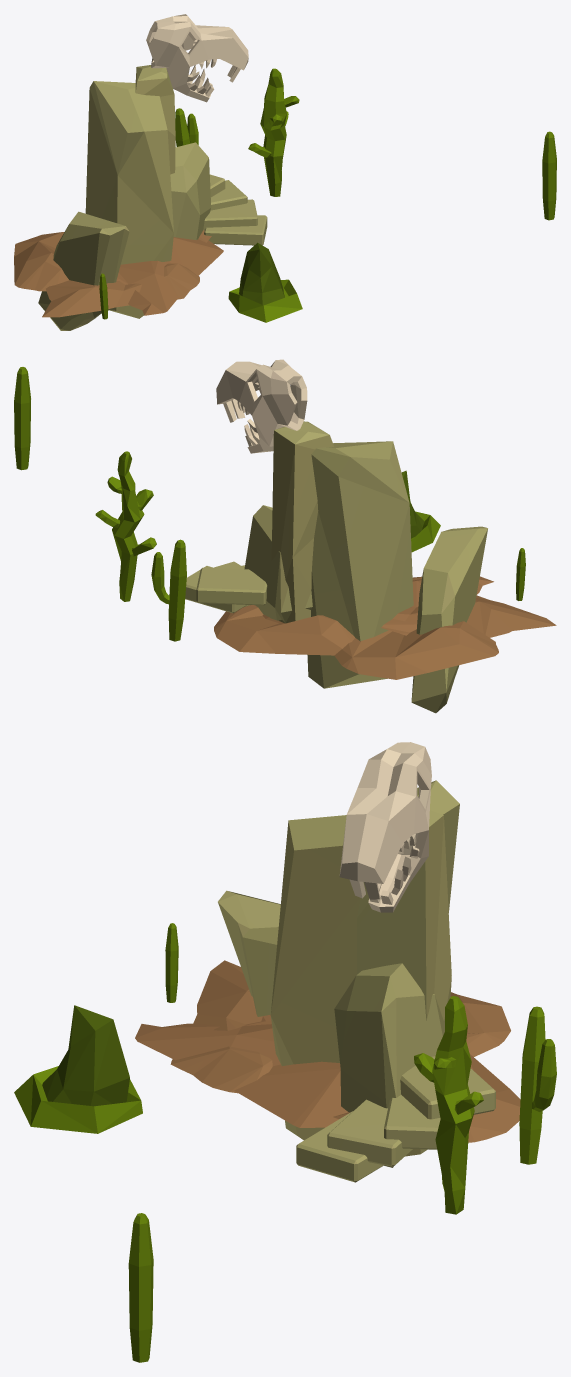
The model's file is desert_assets_2.glb.
The picture shows the model from 3 angles, top to bottom: view 1: azimuth 30°, elevation 25°; view 2: azimuth 150°, elevation 25°; view 3: azimuth 270°, elevation 25°; orthographic projection. The views are drawn at different scales.
Visible parts, largest first — view 1: Box14699, Creature_42, Box14701, Plane055, Cylinder1138_Color_0, Box14700, Plane056, Cylinder1146, Plane057, Box14702, Box14703, Cylinder1150_Color_0 (+3 smaller); view 2: Box14699, Box14702, Box14701, Plane057, Creature_42, Plane058, Cylinder1146, Box14700, Box14706, Cylinder1147_Color_0, Plane056, Cylinder1150_Color_0 (+4 smaller); view 3: Box14699, Creature_42, Box14700, Cylinder1138_Color_0, Box14702, Plane055, Cylinder1146, Plane056, Box14701, Cylinder1147_Color_0, Cylinder1150_Color_0, Box14704 (+6 smaller).
Boxes of the visible parts, bbox=[...] form: Box14699: bbox=[85, 81, 173, 318]; Creature_42: bbox=[146, 14, 248, 102]; Box14701: bbox=[38, 211, 129, 330]; Plane055: bbox=[116, 237, 223, 315]; Cylinder1138_Color_0: bbox=[228, 242, 302, 322]; Box14700: bbox=[170, 142, 211, 239]; Plane056: bbox=[42, 263, 199, 317]; Cylinder1146: bbox=[248, 68, 299, 196]; Plane057: bbox=[14, 232, 68, 291]; Box14702: bbox=[135, 65, 175, 174]; Box14703: bbox=[204, 215, 267, 245]; Cylinder1150_Color_0: bbox=[542, 131, 556, 220]; Box14699: bbox=[307, 441, 413, 688]; Box14702: bbox=[271, 421, 333, 623]; Box14701: bbox=[411, 526, 487, 713]; Plane057: bbox=[334, 621, 498, 679]; Creature_42: bbox=[216, 359, 307, 453]; Plane058: bbox=[214, 605, 354, 655]; Cylinder1146: bbox=[95, 451, 156, 601]; Box14700: bbox=[244, 505, 312, 622]; Box14706: bbox=[196, 567, 267, 605]; Cylinder1147_Color_0: bbox=[151, 539, 186, 641]; Plane056: bbox=[412, 576, 556, 637]; Cylinder1150_Color_0: bbox=[14, 367, 30, 470]; Box14699: bbox=[270, 780, 459, 1156]; Creature_42: bbox=[339, 742, 431, 912]; Box14700: bbox=[334, 963, 444, 1167]; Cylinder1138_Color_0: bbox=[14, 1005, 142, 1133]; Box14702: bbox=[357, 810, 451, 1023]; Plane055: bbox=[135, 1014, 348, 1127]; Cylinder1146: bbox=[414, 996, 483, 1214]; Plane056: bbox=[170, 960, 272, 1093]; Box14701: bbox=[218, 890, 280, 1016]; Cylinder1147_Color_0: bbox=[519, 1006, 556, 1164]; Cylinder1150_Color_0: bbox=[128, 1213, 153, 1362]; Box14704: bbox=[327, 1099, 412, 1166].
Size of the model in its own units: 3.6 by 1.92 by 2.05.
1 material, 1 textured.
